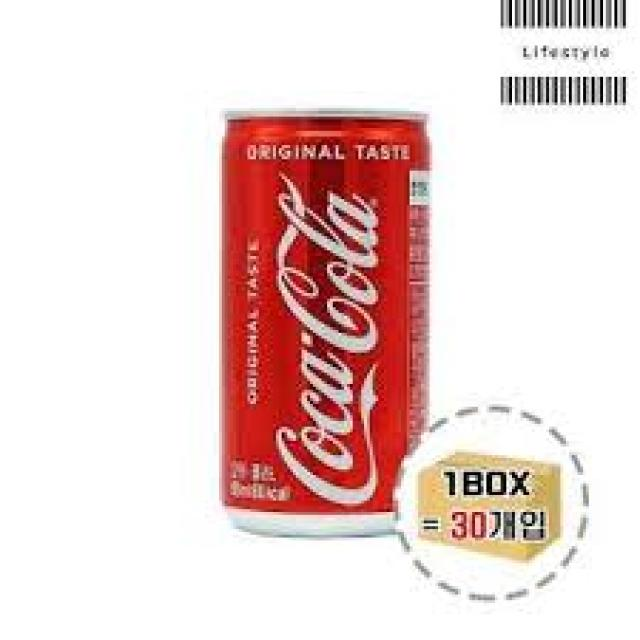Coca-Cola: (214, 93, 438, 549)
